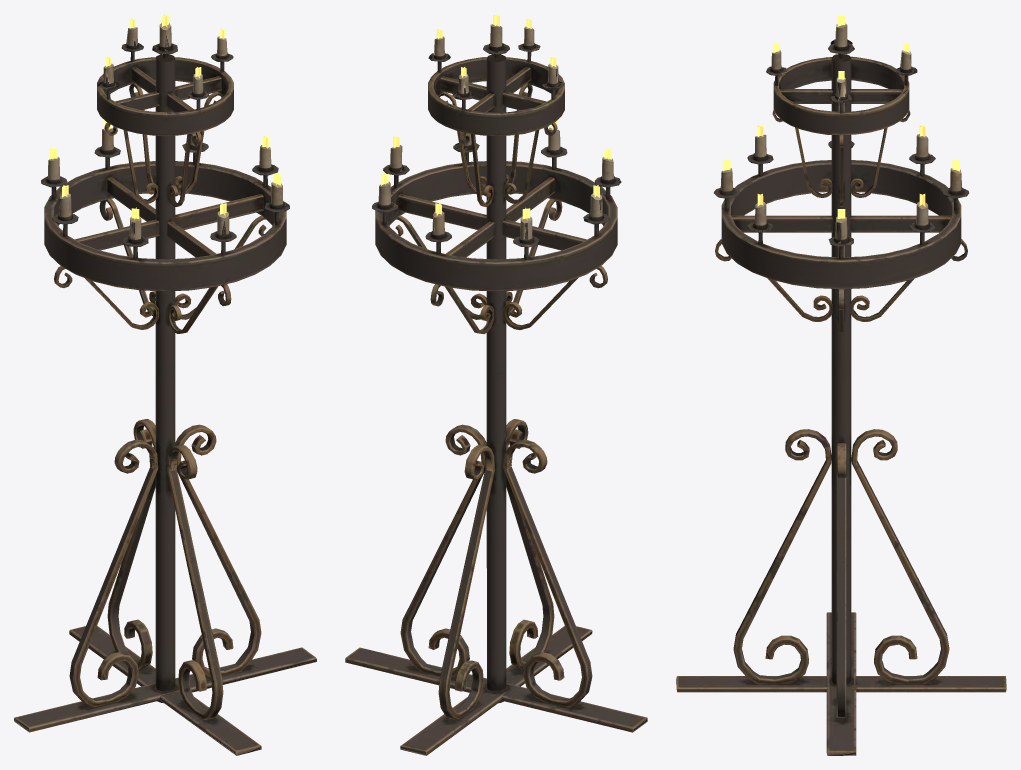
The model's file is medieval_candelabra_free_download.glb.
The picture shows the model from 3 angles, left to right: view 1: azimuth 30°, elevation 25°; view 2: azimuth 150°, elevation 25°; view 3: azimuth 270°, elevation 25°; orthographic projection.
Visible parts, largest first — view 1: polySurface76 (×2); view 2: polySurface76 (×2); view 3: polySurface76 (×2).
Boxes of the visible parts, x1=… form: polySurface76 (×2): x1=14, y1=14, x2=316, y2=755; polySurface76 (×2): x1=345, y1=14, x2=647, y2=755; polySurface76 (×2): x1=676, y1=15, x2=1006, y2=755.
Size of the model in its own units: 0.8841 by 2 by 0.8841.
Materials: 2 (1 with a texture image).
